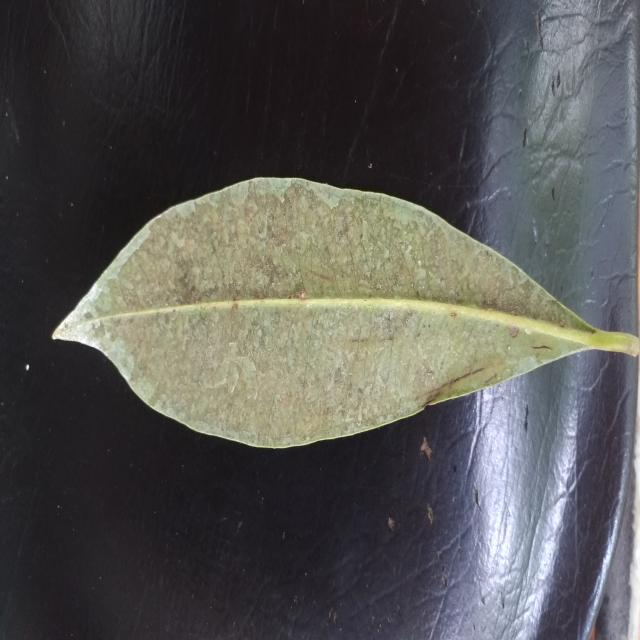nerale: (54, 178, 638, 449)
